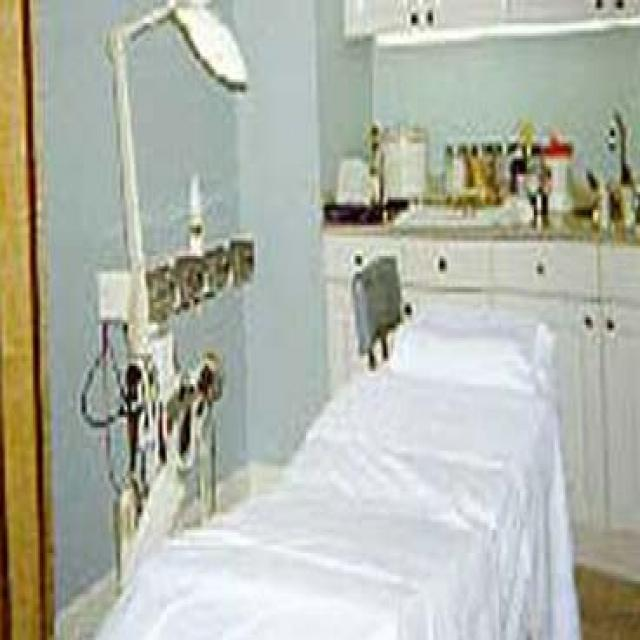chair part: (350, 253, 400, 366)
cupboard: (320, 200, 638, 530)
floor -X: (49, 389, 638, 637)
set of instruments toys: (96, 0, 257, 589)
stretcher occluded: (94, 300, 583, 637)
wall clock: (231, 0, 638, 499)
